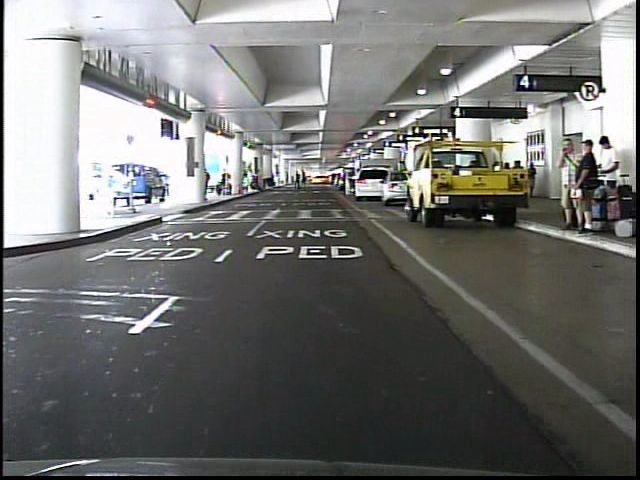person: (551, 137, 578, 231)
